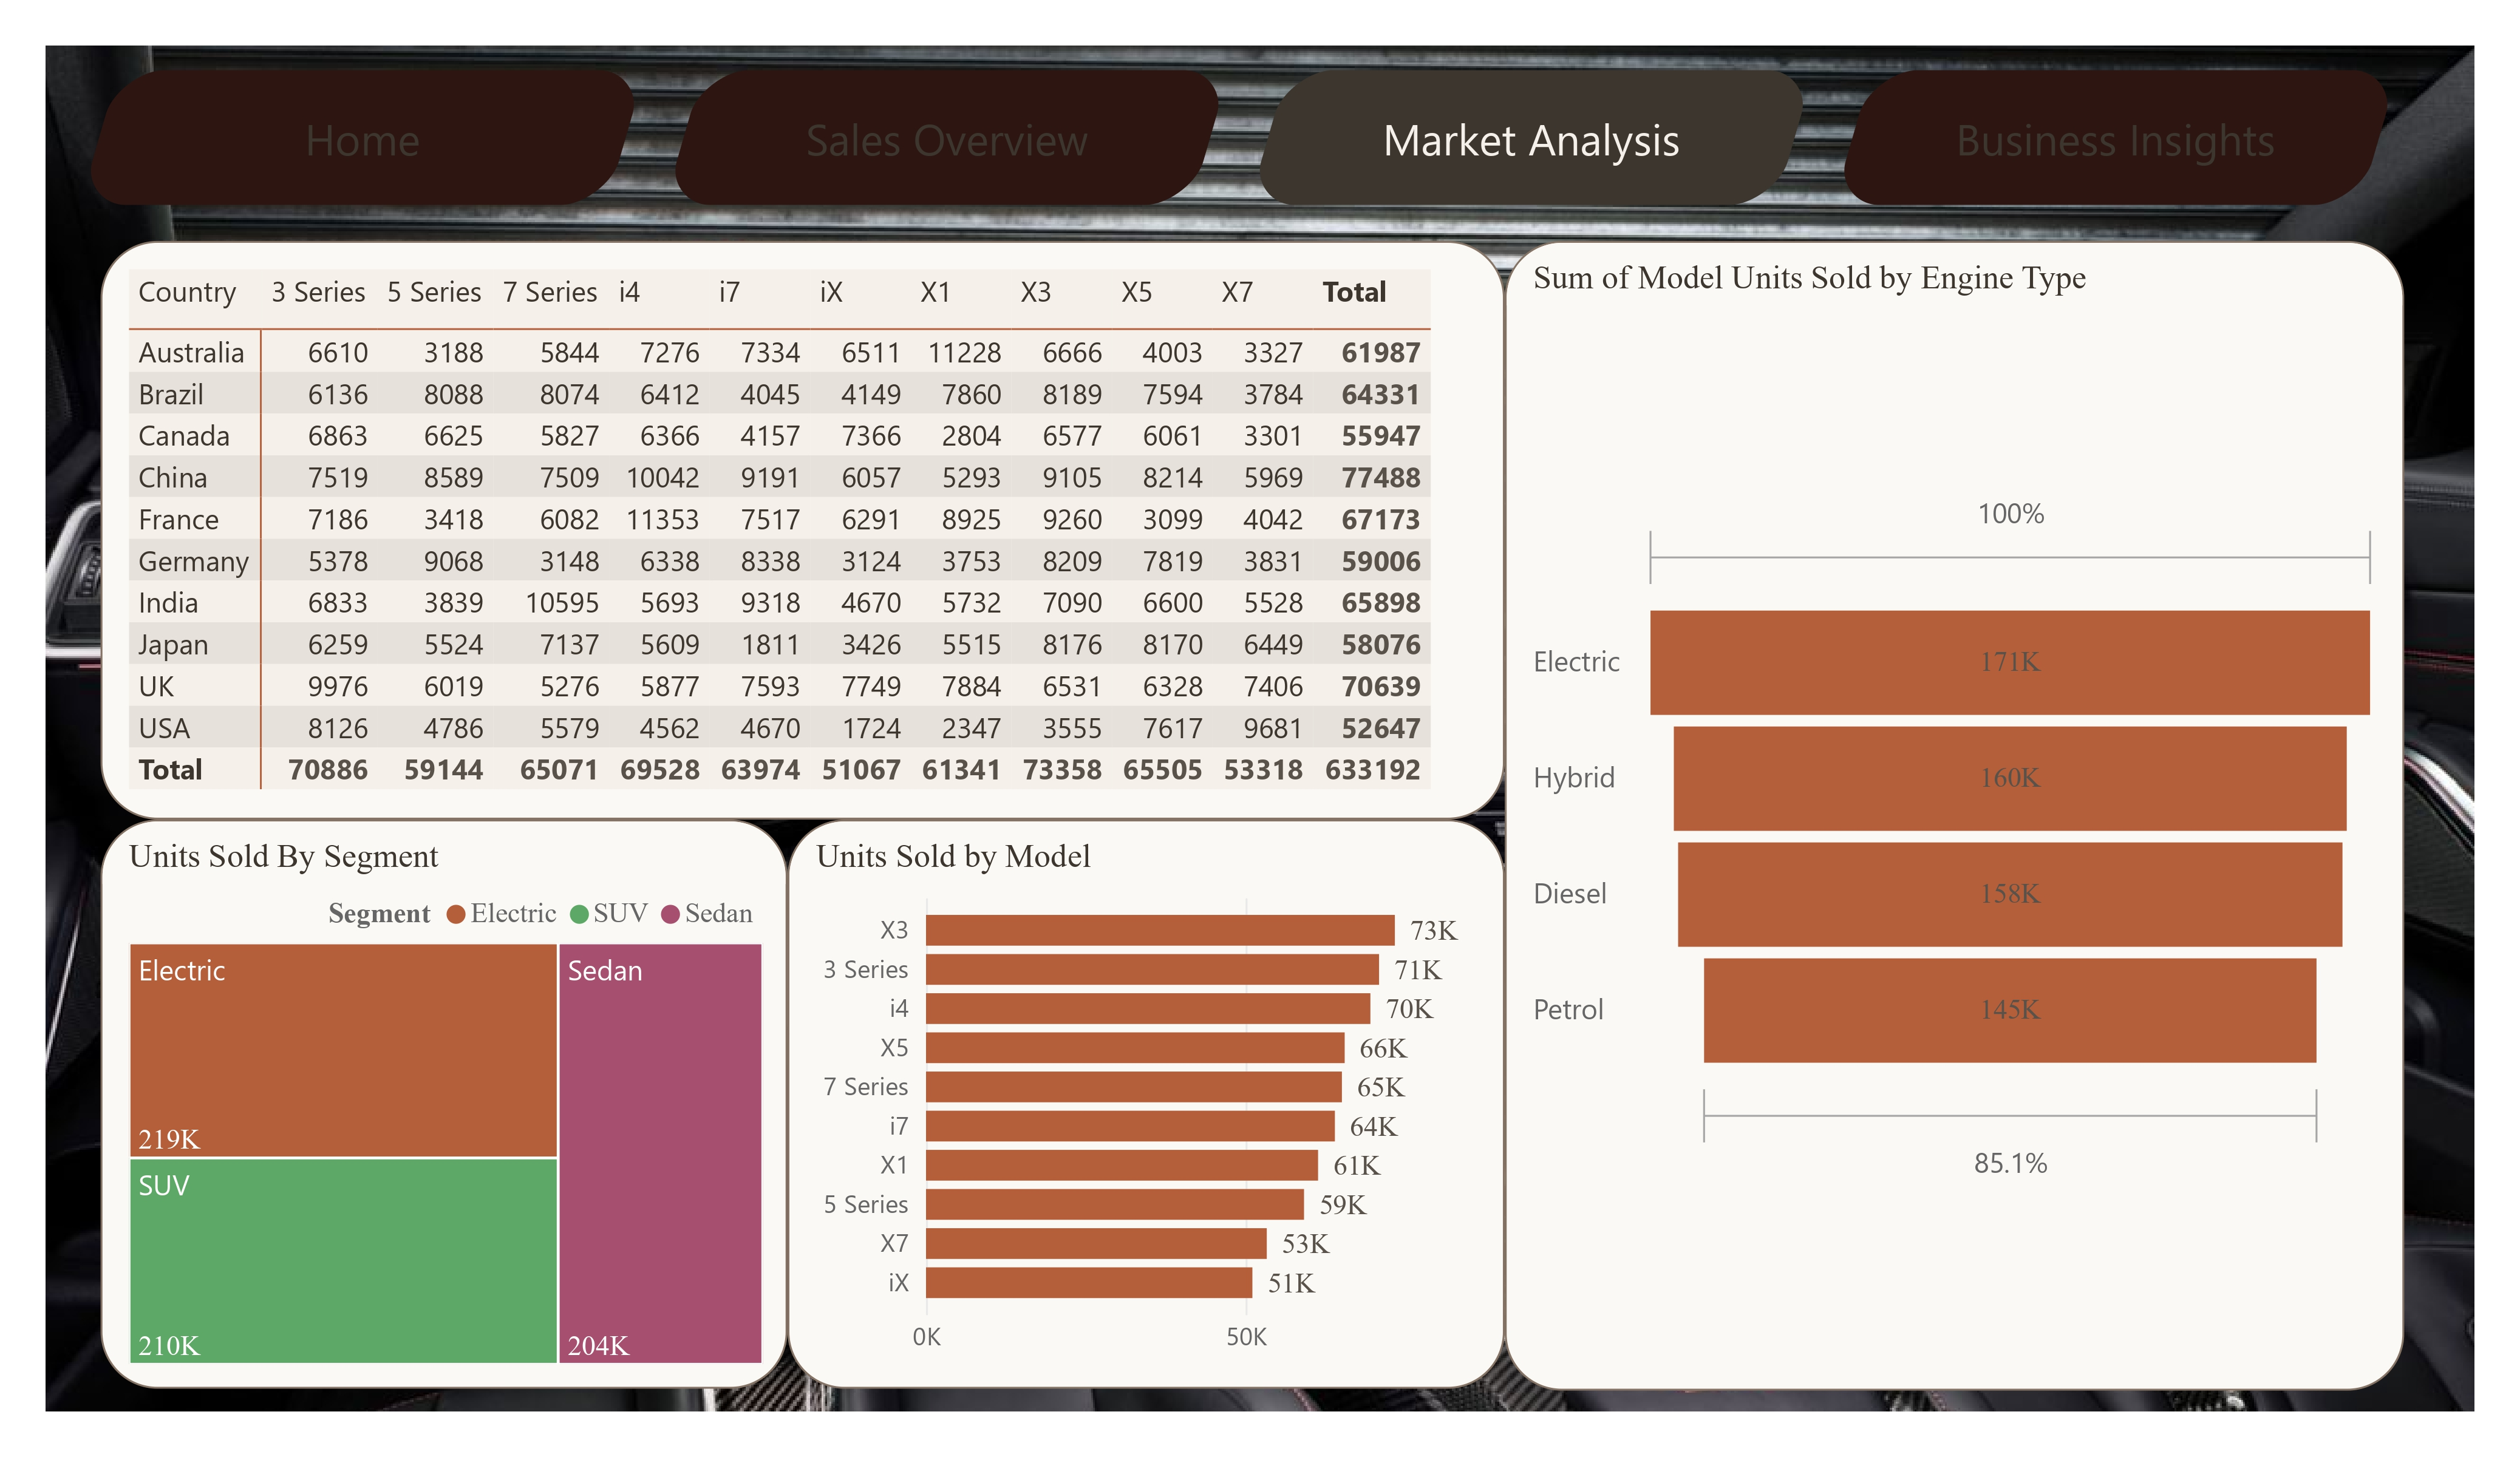

The page's visual inventory and layout, read from the dashboard file:
{"tool":"powerbi","page":{"name":"Market Analysis","canvas":[1280,720],"ordinal":2},"visuals":[{"type":"treemap","title":"Units Sold By Segment","fields":{"Group":["BMW_Data_csv.Segment"],"Values":["Sum(BMW_Data_csv.Model Units Sold)"]},"box":[29,407.8,361.9,300.4],"z":0},{"type":"pageNavigator","box":[18.1,13.3,1224.5,71.2],"z":1000},{"type":"barChart","title":"Units Sold by Model","fields":{"Category":["BMW_Data_csv.Model"],"Y":["Sum(BMW_Data_csv.Model Units Sold)"]},"box":[390.9,407.8,377.6,300.4],"z":2000},{"type":"pivotTable","fields":{"Columns":["BMW_Data_csv.Model"],"Rows":["BMW_Data_csv.Country"],"Values":["Sum(BMW_Data_csv.Model Units Sold)"]},"box":[29,102.5,739.5,305.2],"z":2001},{"type":"funnel","fields":{"Category":["BMW_Data_csv.Engine Type"],"Y":["Sum(BMW_Data_csv.Model Units Sold)"]},"box":[768.6,102.9,474.3,605.7],"z":2002}]}

Visuals, with their boxes on the page's 1280x720 design canvas (x1, y1, x2, y2). These are canvas units, not pixel positions in the 2520x1457 screenshot, which may show the page scaled, cropped or inside an application window:
"Units Sold By Segment" treemap: 29,408,391,708
pageNavigator: 18,13,1243,84
"Units Sold by Model" barChart: 391,408,768,708
pivotTable - BMW_Data_csv.Model x BMW_Data_csv.Country: 29,102,768,408
funnel - BMW_Data_csv.Engine Type x Sum(BMW_Data_csv.Model Units Sold): 769,103,1243,709
